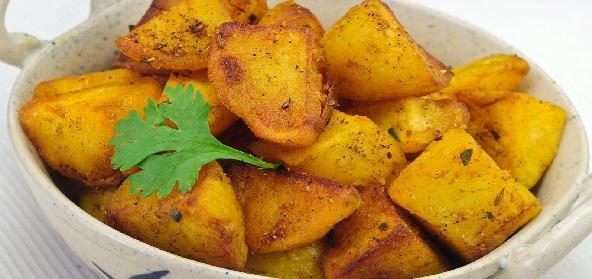AlooMasala: (18, 0, 566, 279)
